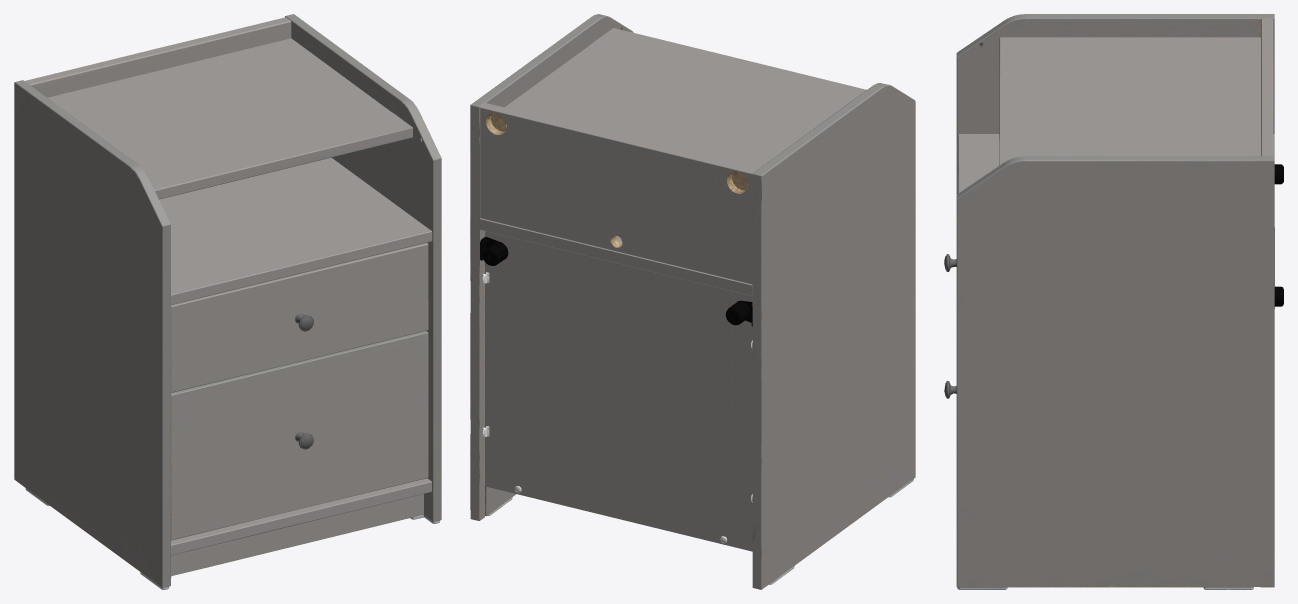
The model's file is HAUGA 2-drawer chest.glb.
The picture shows the model from 3 angles, left to right: view 1: azimuth 30°, elevation 25°; view 2: azimuth 150°, elevation 25°; view 3: azimuth 270°, elevation 25°; orthographic projection. The views are drawn at different scales.
Parts seen in each view (by area): view 1: 00576177-HAUGA001; view 2: 00576177-HAUGA001; view 3: 00576177-HAUGA001.
Boxes of the visible parts, box(x1,y1,x2,y2) form: 00576177-HAUGA001: box(14, 14, 441, 589); 00576177-HAUGA001: box(470, 14, 915, 589); 00576177-HAUGA001: box(944, 14, 1283, 589).
Bounding box in the file's own units: 0.4962 × 0.679 × 0.4856.
Materials: 1 (1 with a texture image).
